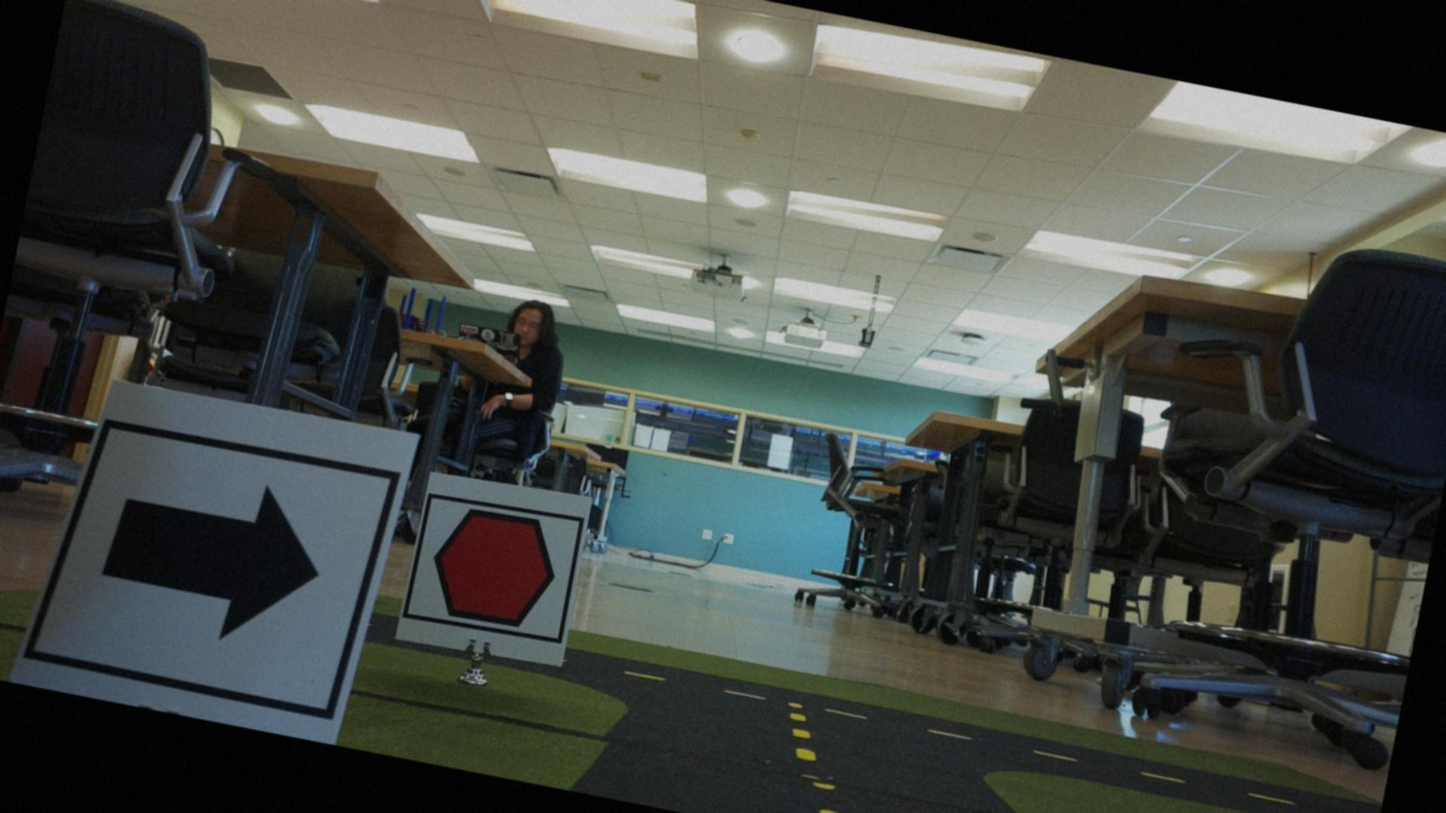stop: (407, 491, 587, 647)
turnright: (57, 423, 368, 711)
yellowline: (768, 708, 868, 812)
